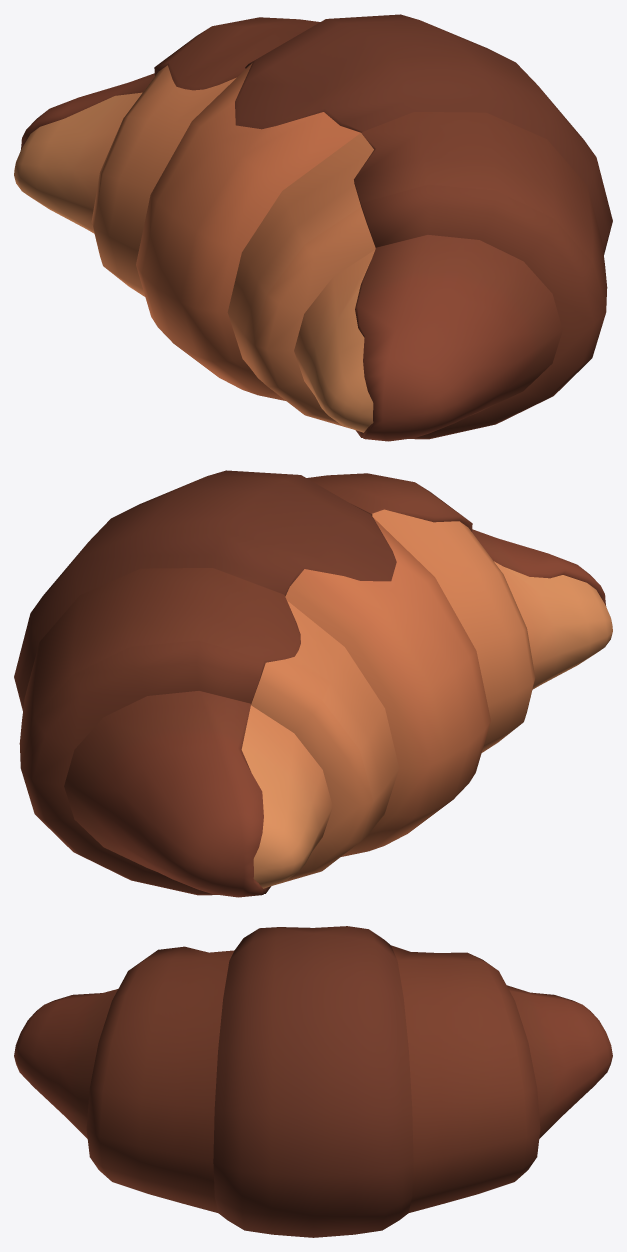
Rendered from Croissant_V1_01.fbx.
The picture shows the model from 3 angles, top to bottom: view 1: azimuth 30°, elevation 25°; view 2: azimuth 150°, elevation 25°; view 3: azimuth 270°, elevation 25°; orthographic projection. The views are drawn at different scales.
Parts seen in each view (by area): view 1: Croissant_V1_01; view 2: Croissant_V1_01; view 3: Croissant_V1_01.
Boxes of the visible parts, x1,y1,x2,y2 form: Croissant_V1_01: [14, 14, 612, 441]; Croissant_V1_01: [14, 470, 612, 897]; Croissant_V1_01: [14, 926, 612, 1237].
Size of the model in its own units: 40 by 31.87 by 61.91.
